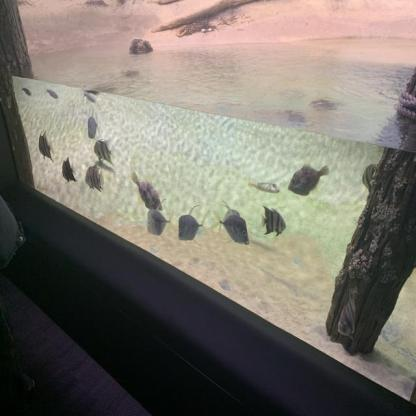fish: (211, 200, 250, 245), (288, 159, 330, 197), (177, 205, 210, 246), (147, 199, 177, 243), (131, 171, 163, 211), (337, 286, 358, 343), (260, 205, 286, 238), (218, 205, 240, 238), (361, 164, 383, 194), (94, 138, 116, 166), (85, 162, 105, 192), (39, 130, 55, 164), (87, 108, 101, 144), (247, 182, 281, 194), (62, 156, 77, 183), (43, 85, 59, 100), (82, 88, 97, 103), (21, 86, 32, 97)
